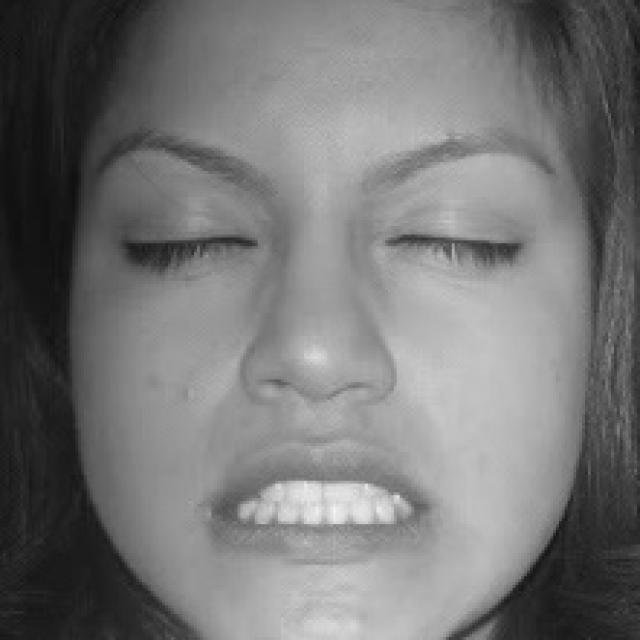real: (70, 4, 621, 639), (130, 161, 522, 302)
